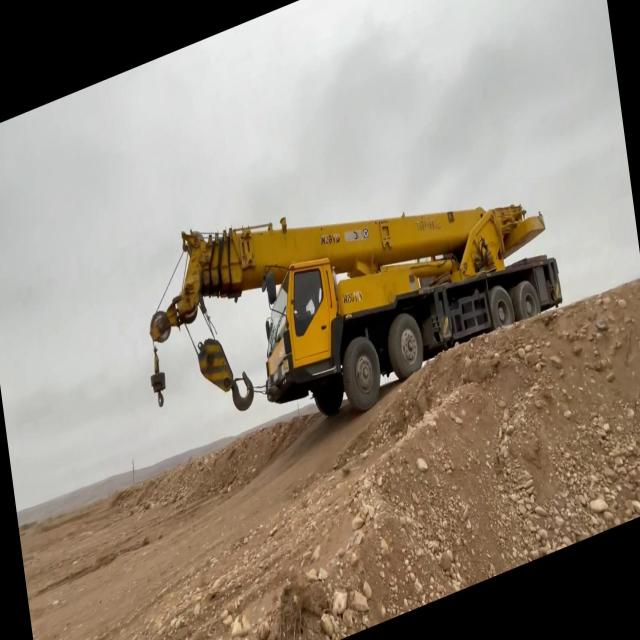crane: (133, 85, 566, 493)
